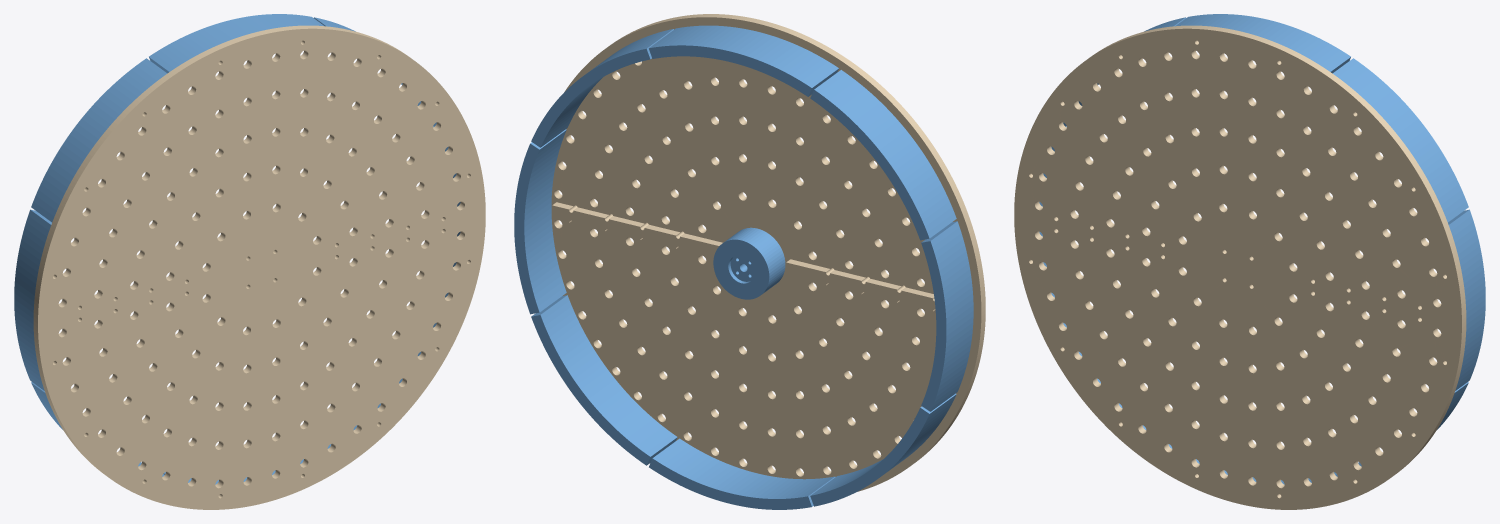
Rendered from carousel_platter.glb.
3 renders of one model, left to right at view 1: azimuth 30°, elevation 25°; view 2: azimuth 150°, elevation 25°; view 3: azimuth 330°, elevation 25°, orthographic.
Parts seen in each view (by area): view 1: sim_platter_ply, sim_platter_print; view 2: sim_platter_ply, sim_platter_print; view 3: sim_platter_ply, sim_platter_print.
Boxes of the visible parts, x1=… form: sim_platter_ply: x1=33, y1=25, x2=485, y2=509; sim_platter_print: x1=14, y1=14, x2=460, y2=484; sim_platter_ply: x1=551, y1=14, x2=985, y2=491; sim_platter_print: x1=514, y1=25, x2=973, y2=509; sim_platter_ply: x1=1014, y1=25, x2=1466, y2=509; sim_platter_print: x1=1039, y1=14, x2=1485, y2=484.
Size of the model in its own units: 0.3522 by 0.3522 by 0.043.
